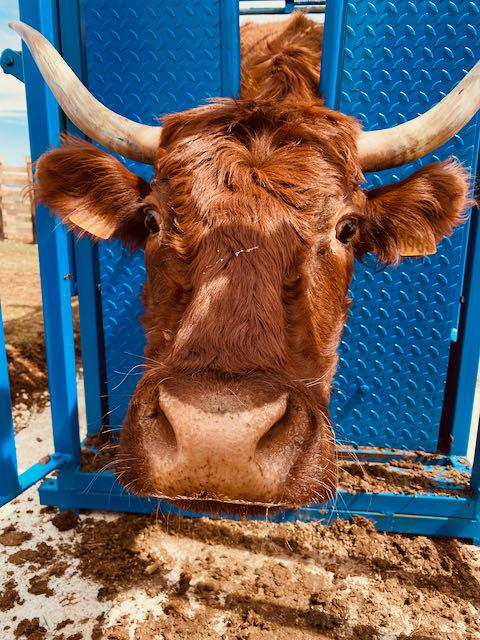muzzles: (92, 371, 361, 523)
